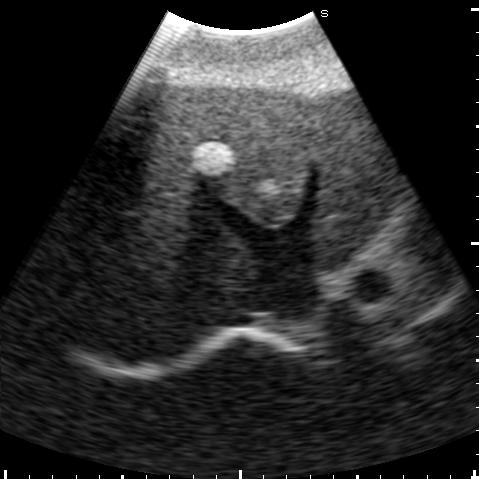S2: (312, 93, 392, 269)
S4: (132, 80, 318, 224)
S7: (77, 249, 194, 355)
S8: (112, 147, 249, 292)
Tumor: (190, 141, 235, 178), (259, 181, 275, 193)
